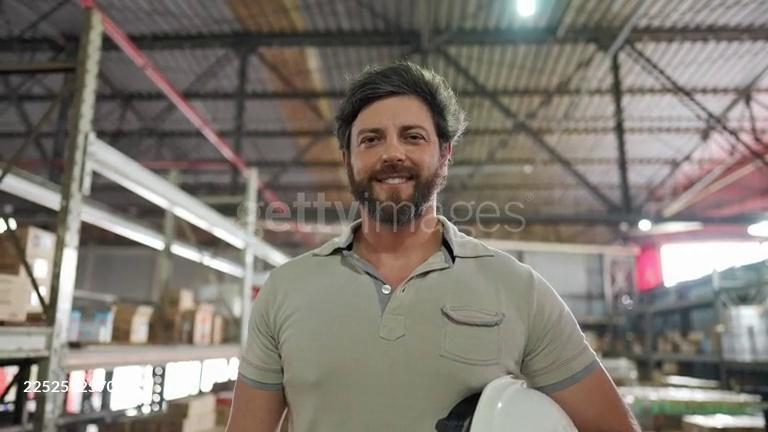helmet: (468, 372, 580, 432)
person: (226, 63, 642, 432)
